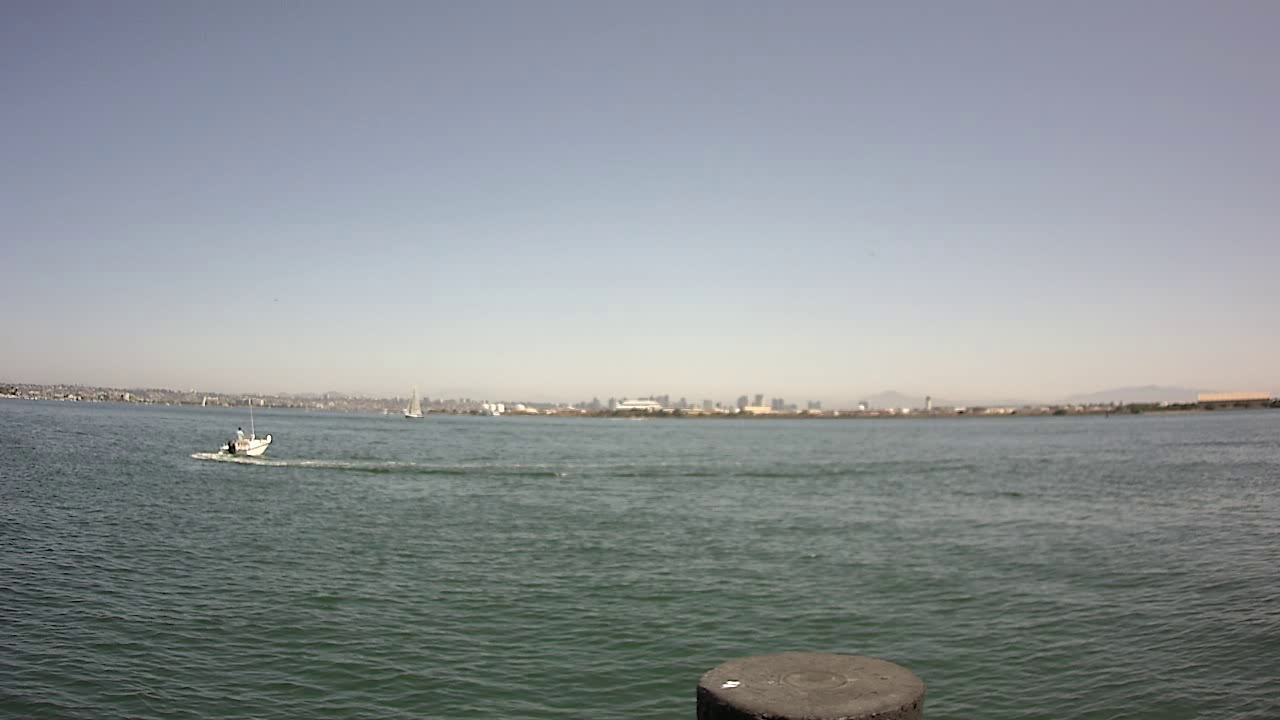target: (214, 418, 301, 466), (214, 418, 248, 443)
